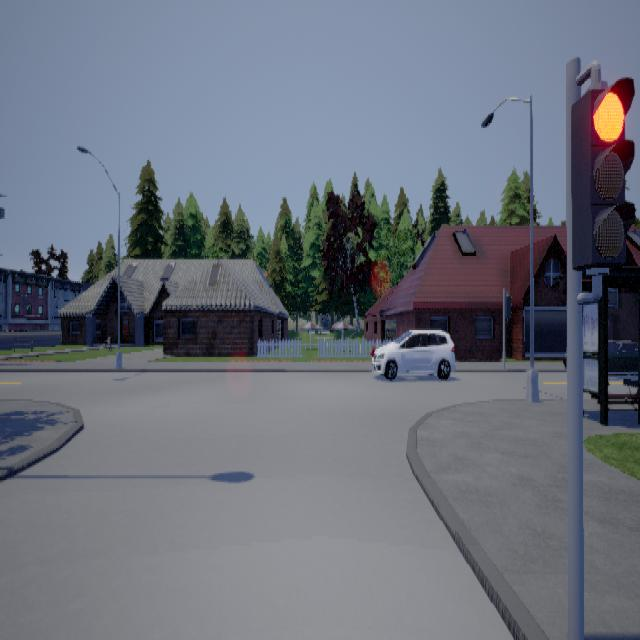red_light: (570, 59, 635, 303)
vehicle: (371, 328, 455, 379), (607, 338, 637, 374)
